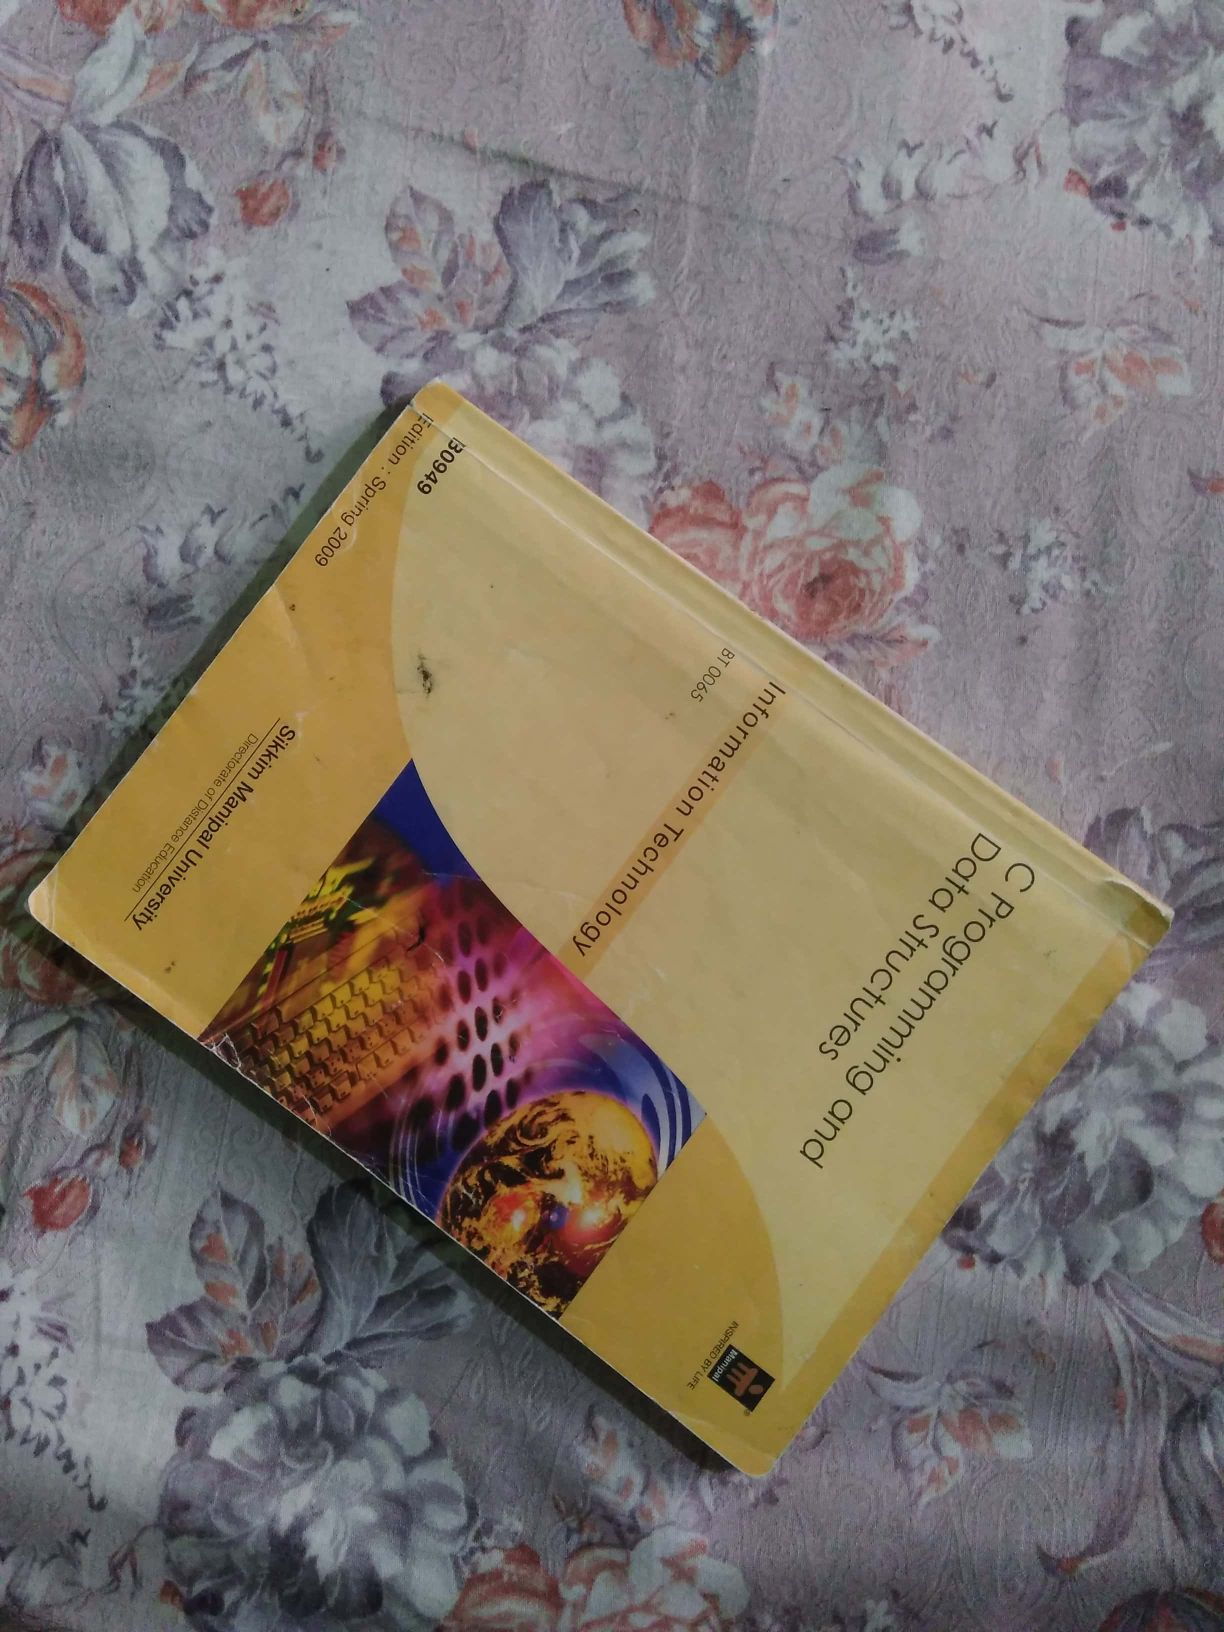clang: (30, 400, 1210, 1450)
